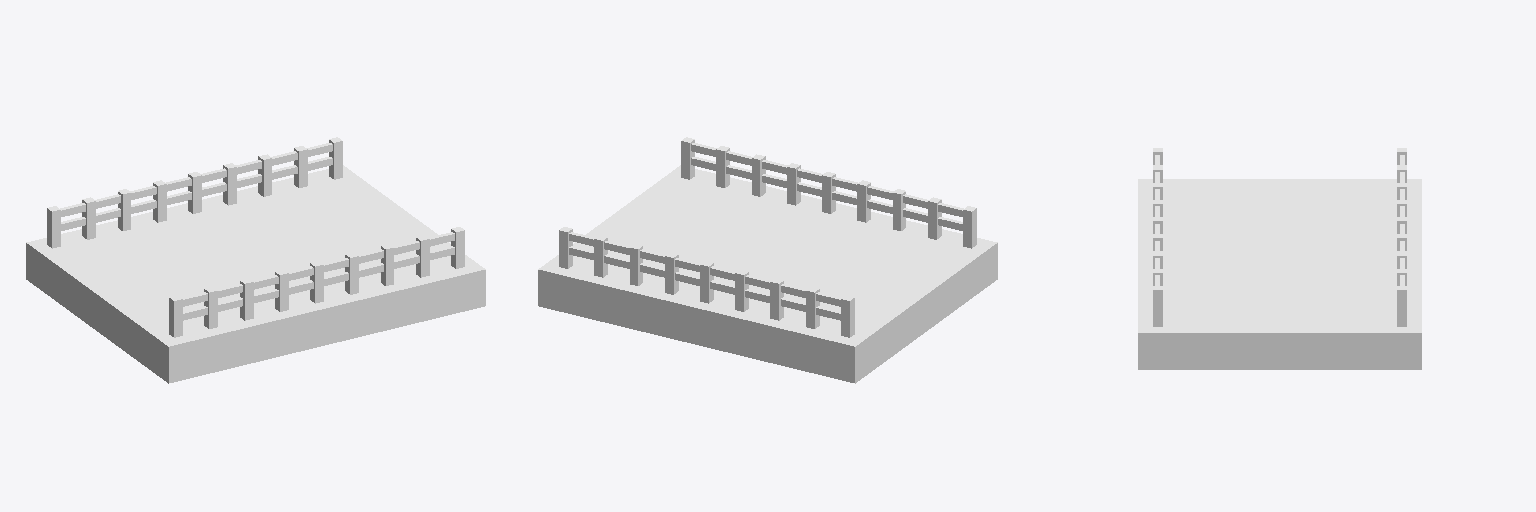
File: Path.obj
The picture shows the model from 3 angles: view 1: azimuth 30°, elevation 25°; view 2: azimuth 150°, elevation 25°; view 3: azimuth 270°, elevation 25°; orthographic projection.
Parts seen in each view (by area): view 1: Unity__-30_-60_-58_to_-22_319_-52; view 2: Unity__-30_-60_-58_to_-22_319_-52; view 3: Unity__-30_-60_-58_to_-22_319_-52.
Boxes of the visible parts, x1,y1,x2,y2 form: Unity__-30_-60_-58_to_-22_319_-52: [26, 137, 485, 383]; Unity__-30_-60_-58_to_-22_319_-52: [538, 137, 997, 383]; Unity__-30_-60_-58_to_-22_319_-52: [1138, 148, 1421, 369].
Bounding box in the file's own units: 31.5 × 7 × 24.5.